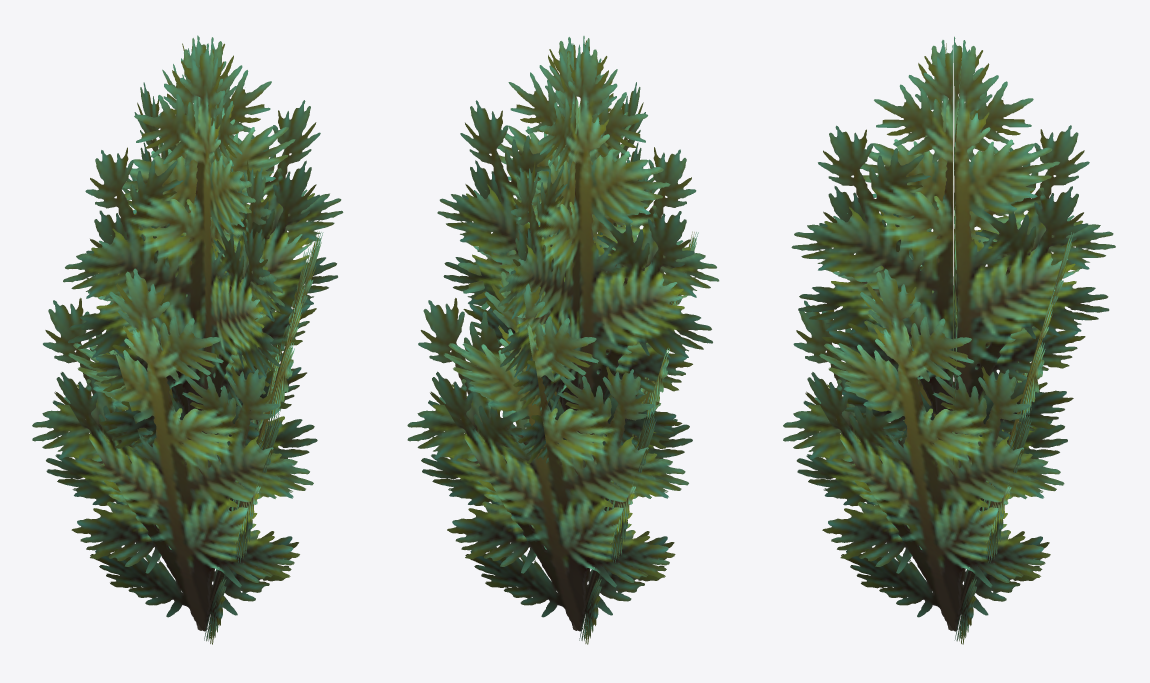
Rendered from painted-pine-big-1.glb.
3 views of the same model, side by side, from view 1: azimuth 30°, elevation 25°; view 2: azimuth 150°, elevation 25°; view 3: azimuth 270°, elevation 25° (orthographic).
Bounding box in the file's own units: 7.6 × 14.32 × 7.74.
1 material, 1 textured.
